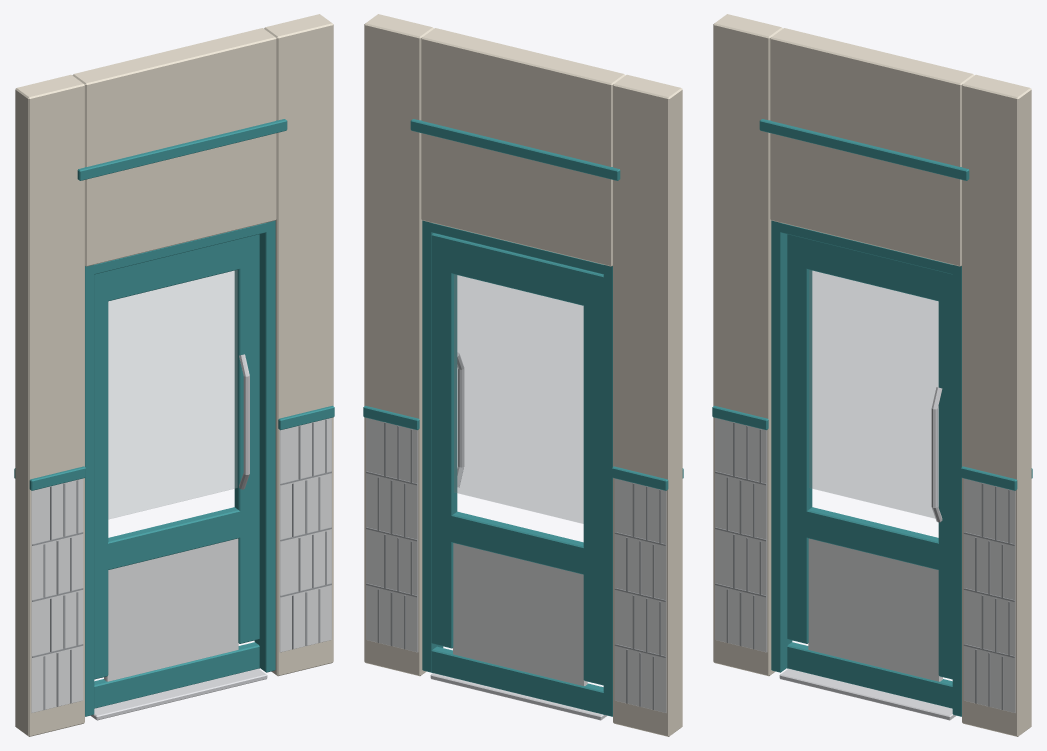
The model's file is dry-cleaners-and-alterations-shop-shop-door-module-40e9fb22__34946.glb.
3 renders of one model, left to right at view 1: azimuth 30°, elevation 25°; view 2: azimuth 150°, elevation 25°; view 3: azimuth 330°, elevation 25°, orthographic.
Visible parts, largest first — view 1: shop-door-module, shop-door/glass, shop-door/accent, shop-door/panel, shop-door/metal; view 2: shop-door-module, shop-door/accent, shop-door/glass, shop-door/panel, shop-door/metal; view 3: shop-door-module, shop-door/accent, shop-door/glass, shop-door/panel, shop-door/metal.
Part boxes in pixels (x1,y1,x2,y2): shop-door-module: (14, 14, 334, 736); shop-door/glass: (108, 270, 237, 518); shop-door/accent: (94, 234, 259, 708); shop-door/panel: (104, 538, 238, 681); shop-door/metal: (239, 354, 249, 489); shop-door-module: (363, 14, 683, 736); shop-door/accent: (431, 233, 604, 714); shop-door/glass: (454, 274, 583, 523); shop-door/panel: (453, 543, 587, 685); shop-door/metal: (457, 352, 464, 487); shop-door-module: (712, 14, 1032, 736); shop-door/accent: (787, 234, 952, 708); shop-door/glass: (809, 270, 938, 518); shop-door/panel: (808, 538, 942, 681); shop-door/metal: (931, 387, 942, 522).
Size of the model in its own units: 1.5 by 3 by 0.158.
